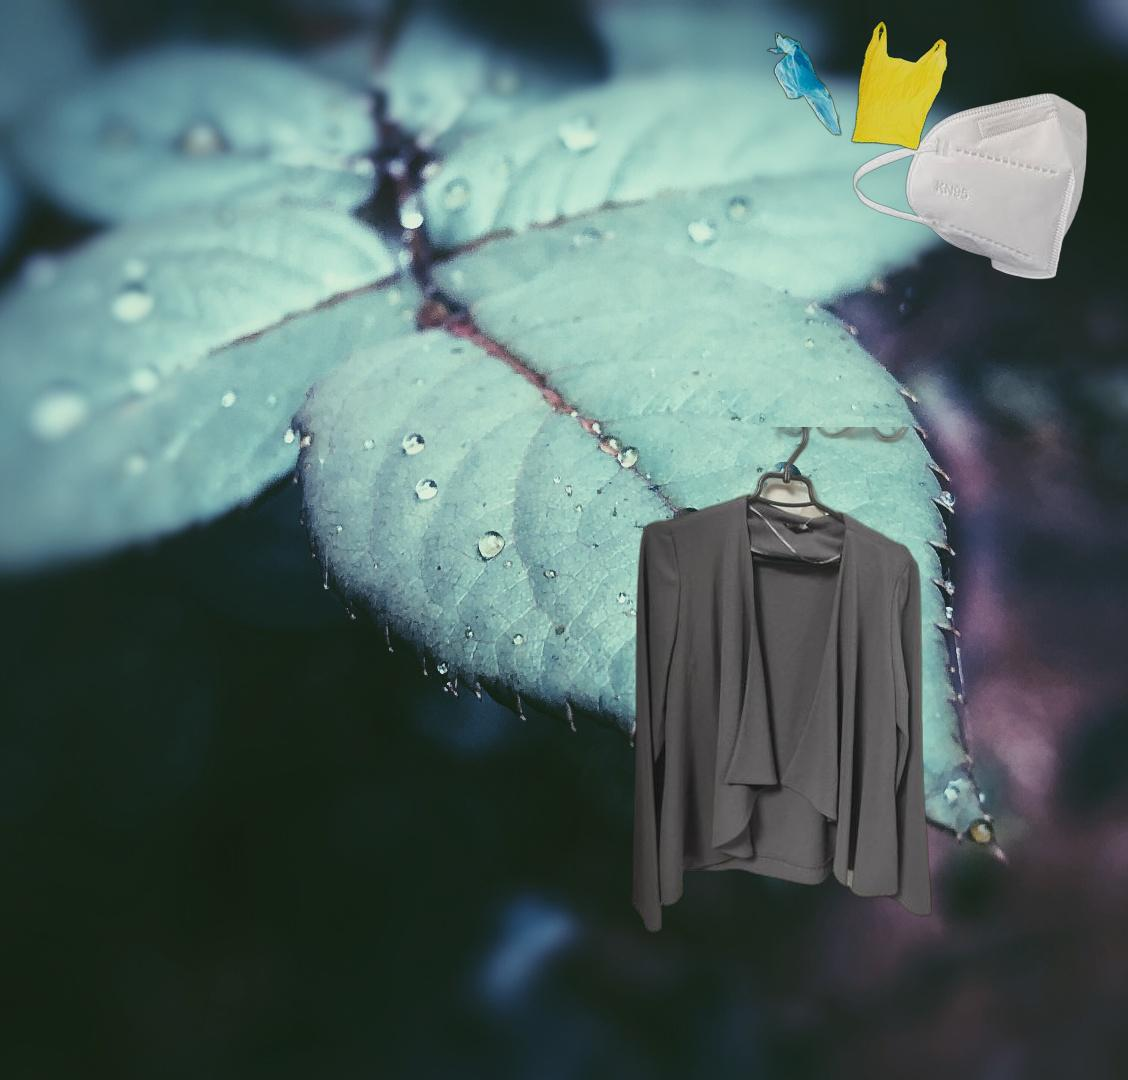clothes: (629, 427, 934, 938)
plastic-bag: (764, 16, 950, 152)
trash: (850, 92, 1088, 280)
